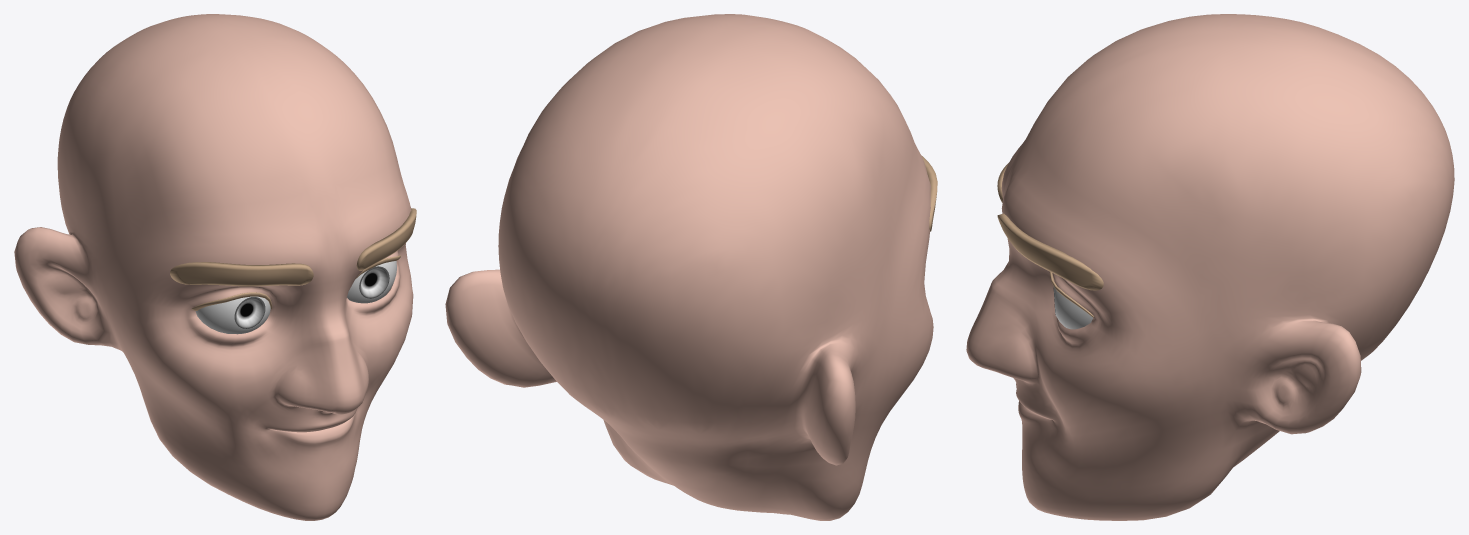
The picture shows the model from 3 angles, left to right: view 1: azimuth 30°, elevation 25°; view 2: azimuth 150°, elevation 25°; view 3: azimuth 270°, elevation 25°; orthographic projection. The views are drawn at different scales.
Visible parts, largest first — view 1: skin, brows, eyes, lashes; view 2: skin; view 3: skin, brows, eyes.
Boxes of the visible parts, box(x1,y1,x2,y2) form: skin: box(14, 14, 413, 520); brows: box(170, 208, 416, 286); eyes: box(195, 261, 396, 334); lashes: box(192, 255, 400, 310); skin: box(445, 14, 933, 520); skin: box(966, 14, 1454, 520); brows: box(997, 163, 1103, 290); eyes: box(1053, 286, 1092, 329).
Bounding box in the file's own units: 1.65 × 2 × 1.88.
9 materials, 1 textured.
